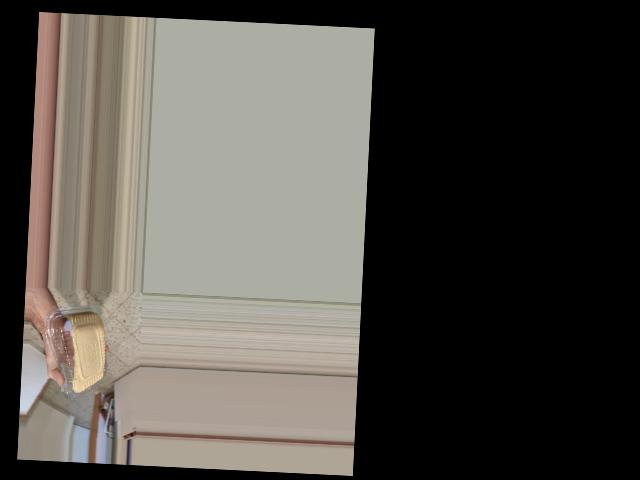cheese: (59, 299, 100, 376)
